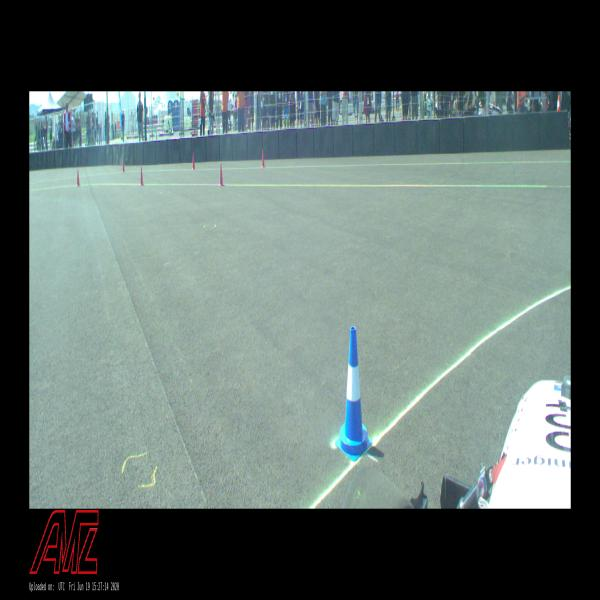blue_cone: (336, 326, 372, 462)
unknown_cone: (218, 163, 224, 187), (260, 148, 265, 167), (140, 166, 144, 186), (76, 169, 80, 186), (192, 152, 196, 169), (122, 158, 125, 173)
